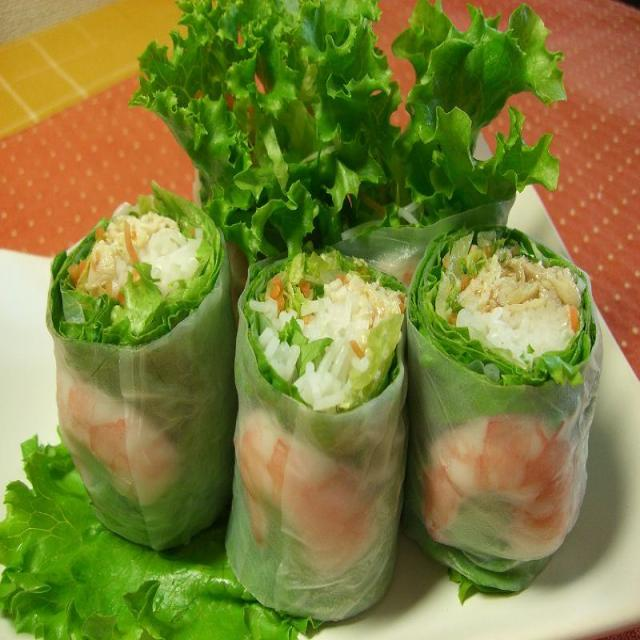鸡蛋料理: (46, 183, 604, 634)
